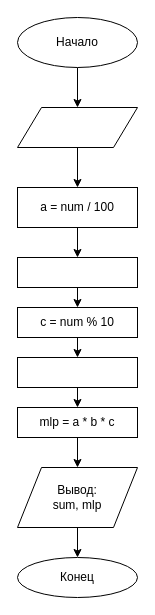
The diagram is 155 pixels wide and 615 high, and some of its shapes have lost their labels. Each missing label, with the centre of its shape:
"b = num % 10 / 10" belongs at (77,272).
"sum = a + b + c" belongs at (77,372).
"Ввод: num" belongs at (77,127).
